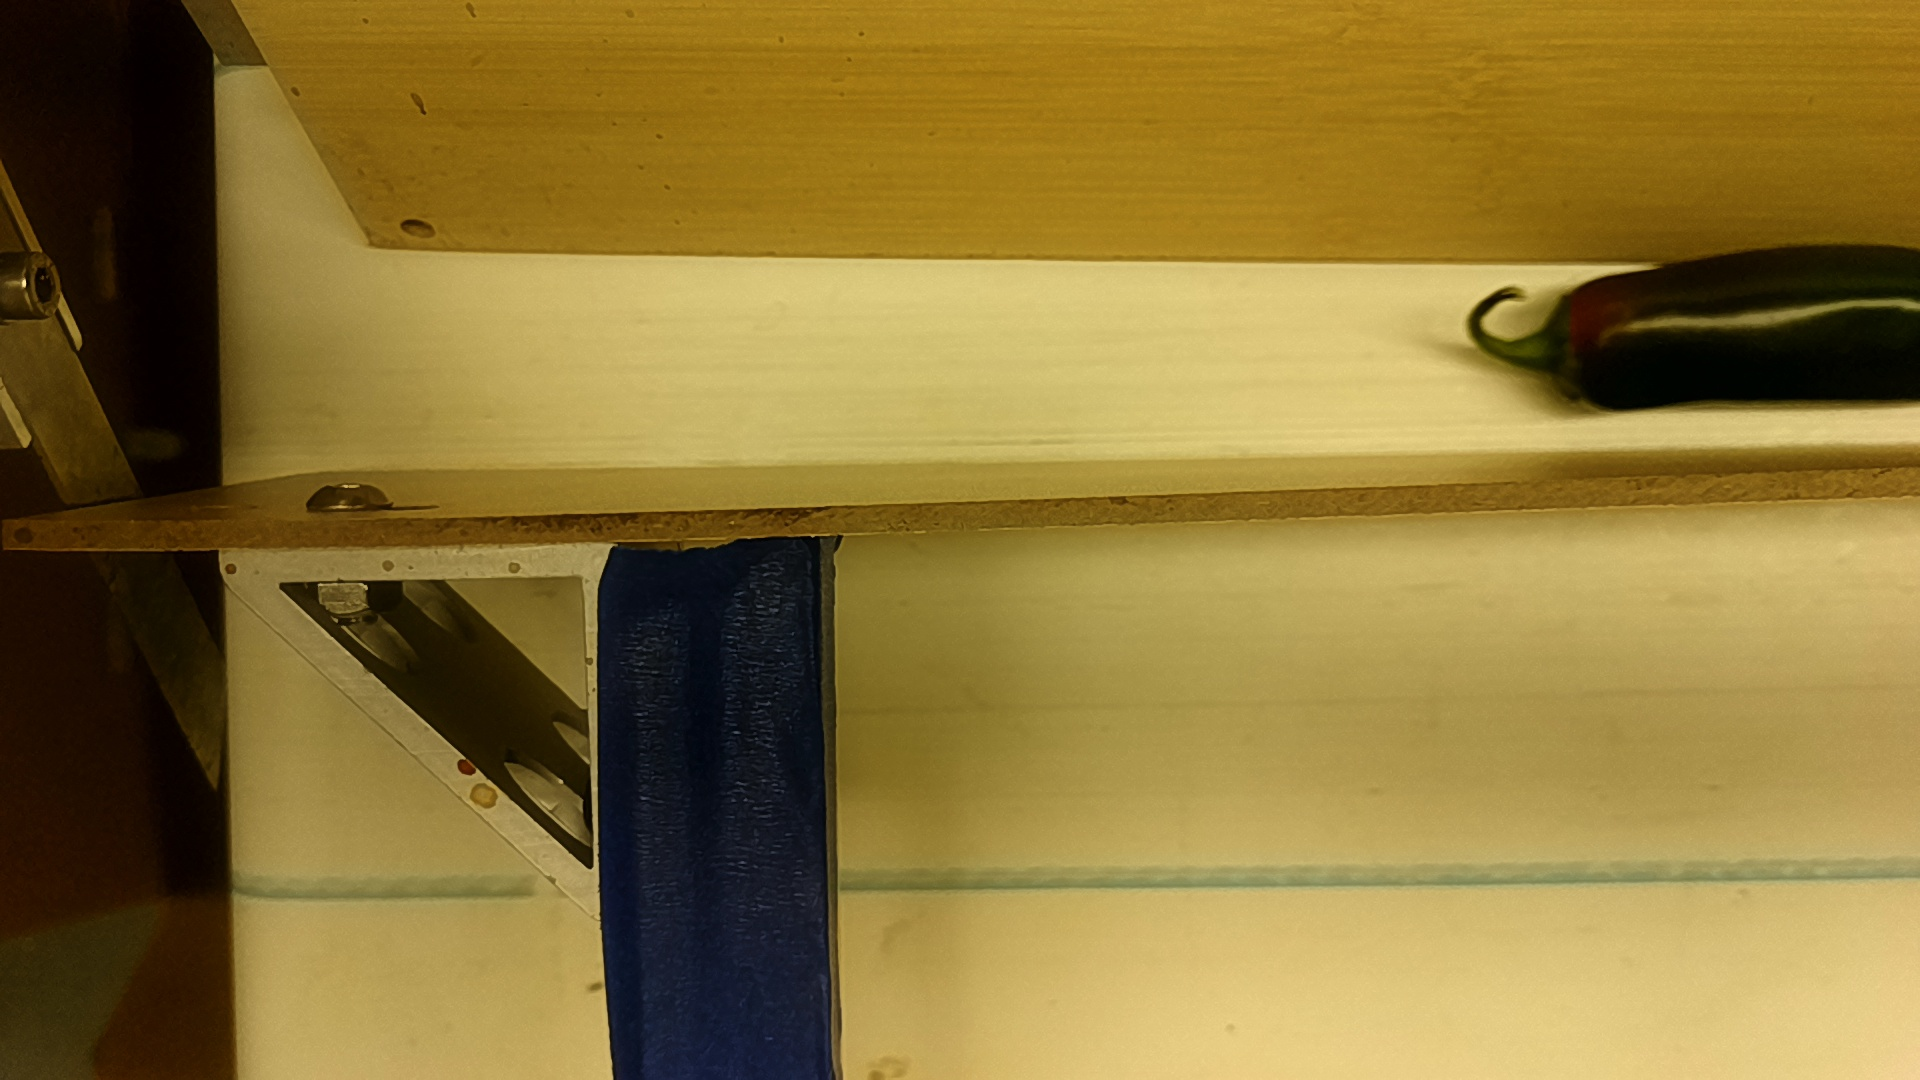Cut Point: (1534, 266, 1607, 415)
